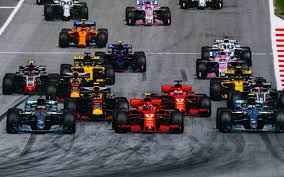f1_car: (109, 93, 190, 138), (3, 95, 80, 139), (211, 93, 283, 135), (1, 58, 69, 97), (56, 52, 122, 88), (190, 48, 257, 83), (57, 18, 113, 51), (120, 1, 176, 31)
